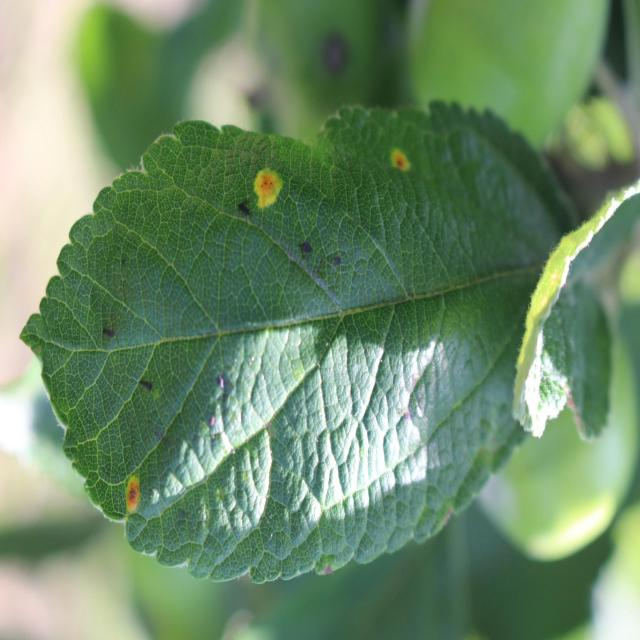Rust: (247, 167, 285, 216), (122, 469, 146, 520), (384, 149, 415, 177)
